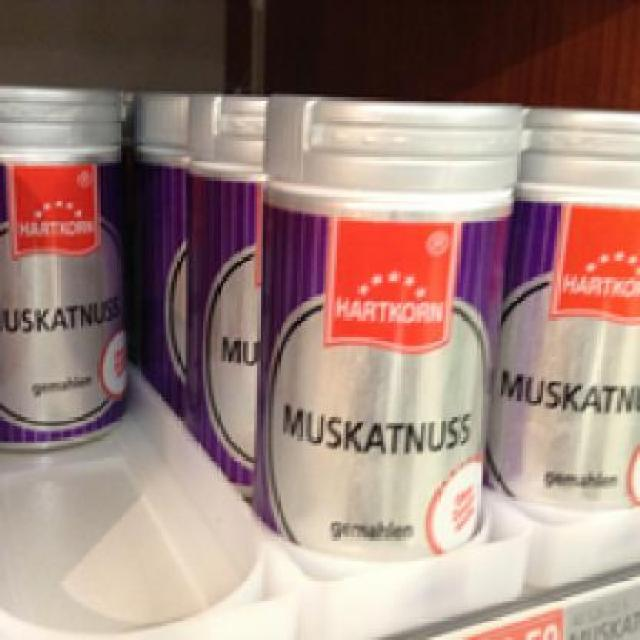Spices: (245, 89, 526, 552), (0, 82, 129, 452)
